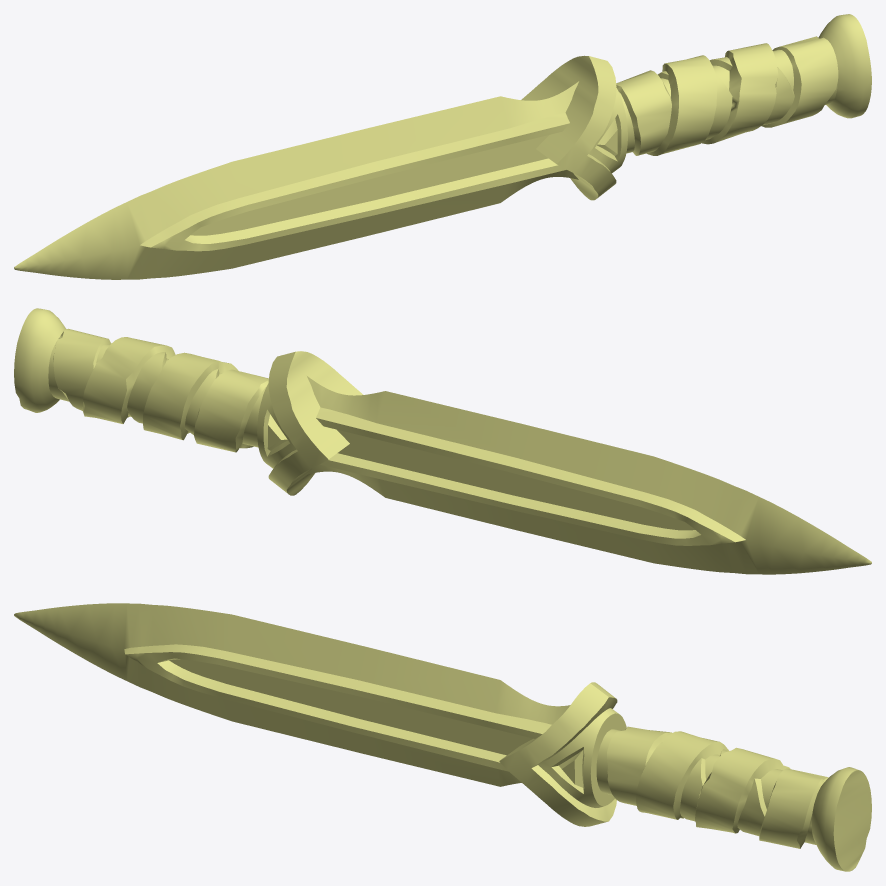
File: SM_Rune_Dagger_4.fbx
The picture shows the model from 3 angles, top to bottom: view 1: azimuth 30°, elevation 25°; view 2: azimuth 150°, elevation 25°; view 3: azimuth 330°, elevation 25°; orthographic projection.
Parts seen in each view (by area): view 1: SM_Rune_Dagger_4; view 2: SM_Rune_Dagger_4; view 3: SM_Rune_Dagger_4.
Boxes of the visible parts, x1,y1,x2,y2 form: SM_Rune_Dagger_4: (14, 14, 871, 279); SM_Rune_Dagger_4: (14, 308, 871, 574); SM_Rune_Dagger_4: (14, 603, 871, 871).
Bounding box in the file's own units: 0.5721 × 0.0933 × 0.0693.
